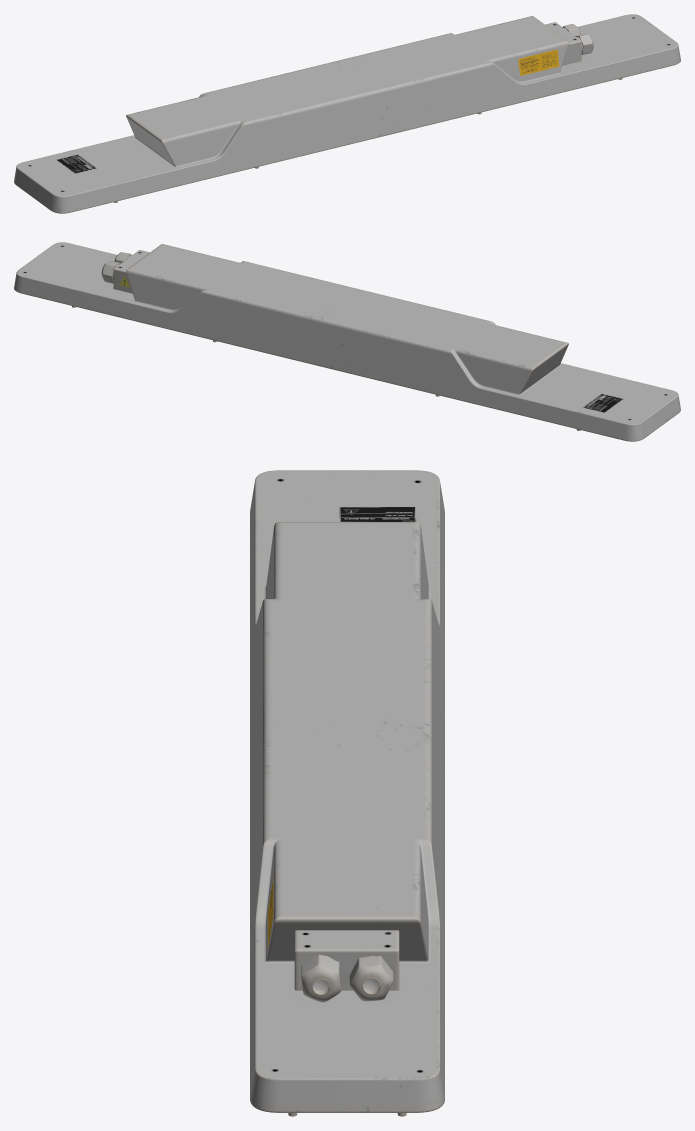
3 renders of one model, top to bottom at view 1: azimuth 30°, elevation 25°; view 2: azimuth 150°, elevation 25°; view 3: azimuth 270°, elevation 25°, orthographic. The views are drawn at different scales.
Parts seen in each view (by area): view 1: AM218_019_Ceiling Light; view 2: AM218_019_Ceiling Light; view 3: AM218_019_Ceiling Light.
Boxes of the visible parts, x1,y1,x2,y2 form: AM218_019_Ceiling Light: (14, 14, 680, 213); AM218_019_Ceiling Light: (14, 242, 680, 441); AM218_019_Ceiling Light: (250, 470, 444, 1116).
Bounding box in the file's own units: 74.08 × 5.61 × 9.96.
Materials: 1 (1 with a texture image).
